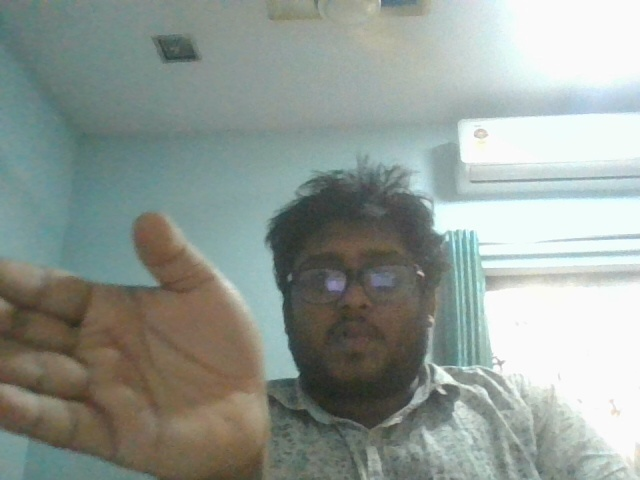RIGHT: (1, 209, 287, 480)
